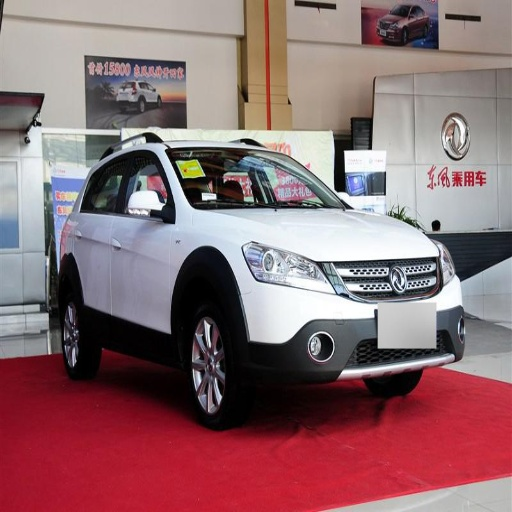front_bumper: (242, 257, 464, 389)
front_right_door: (111, 147, 172, 329)
front_right_light: (243, 241, 339, 292)
